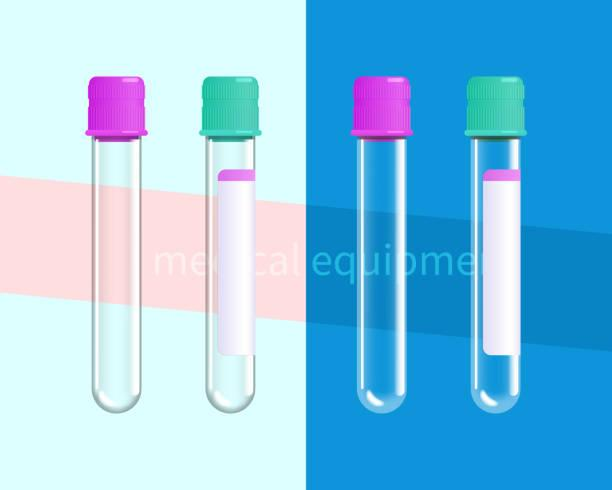Test tube: (458, 39, 533, 425), (83, 67, 152, 414), (192, 56, 259, 411), (351, 62, 412, 418)
